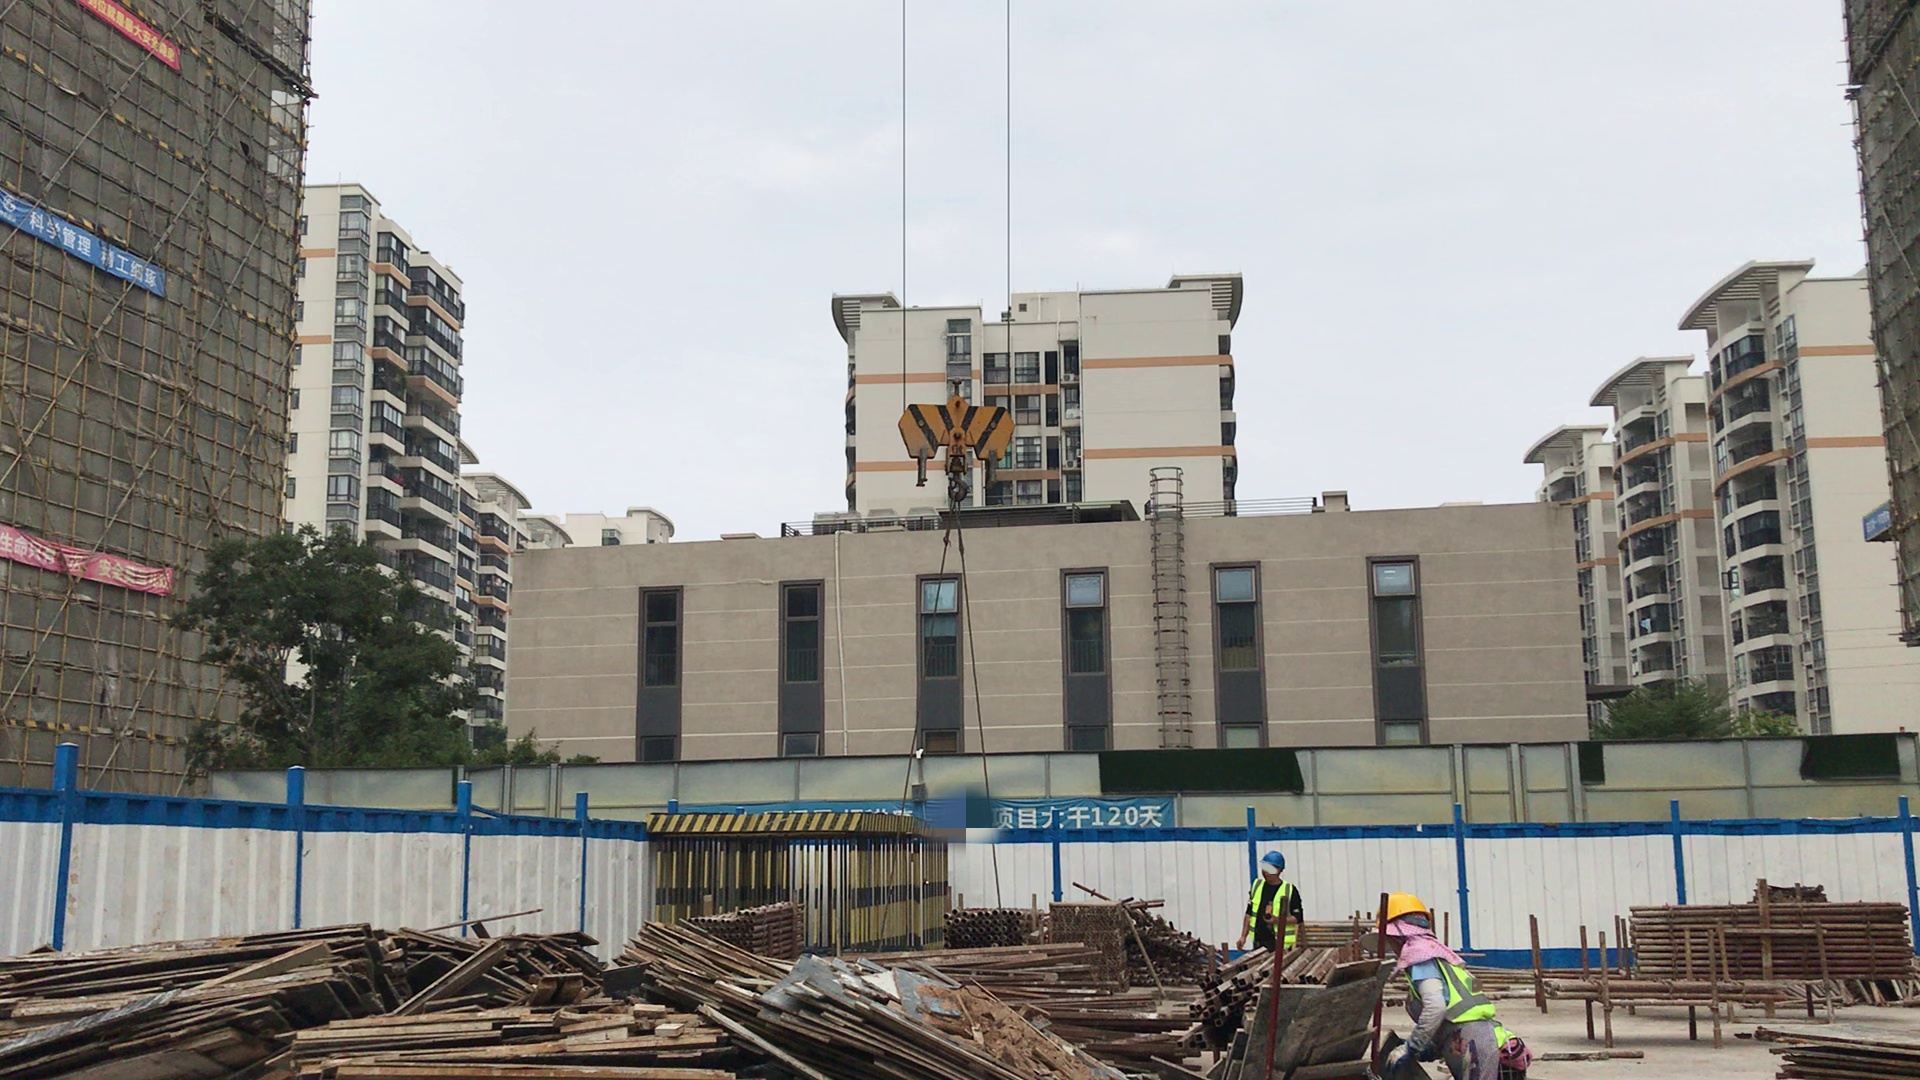board: (636, 917, 977, 1080), (2, 930, 365, 1080), (278, 987, 739, 1080), (1759, 1013, 1920, 1080)
helmet: (1379, 889, 1429, 925), (1260, 848, 1289, 876)
hook: (878, 370, 1038, 504)
person: (1367, 893, 1536, 1080), (1242, 849, 1307, 958)
scaffold: (1625, 891, 1920, 990), (684, 900, 810, 972), (1129, 907, 1206, 994), (940, 898, 1035, 965)
slogan: (907, 794, 1175, 868), (1, 196, 165, 308), (1, 517, 188, 602), (30, 1, 211, 58)
vest: (1401, 948, 1519, 1066), (1249, 871, 1294, 948)
